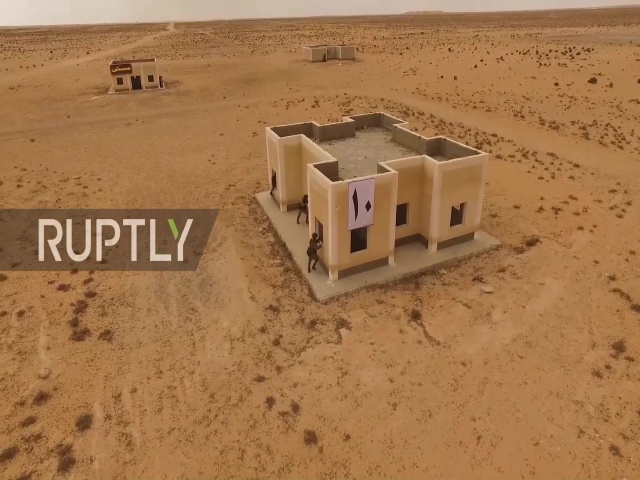person: (305, 232, 320, 274), (294, 192, 308, 227)
